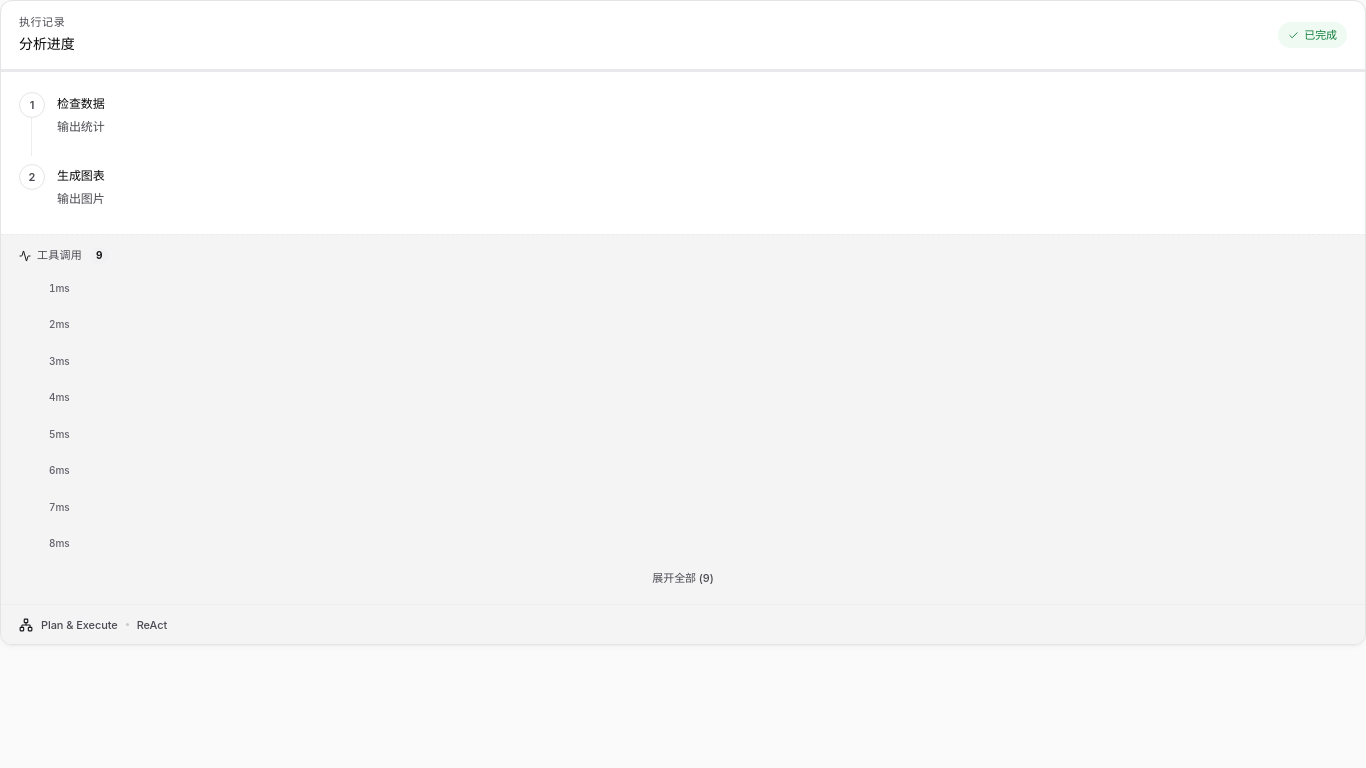
Test case: PlanPanel › 工具调用超过 8 条时支持展开全部
Click the button "展开全部 (9)" at (683, 578), box [19,566,1347,590]
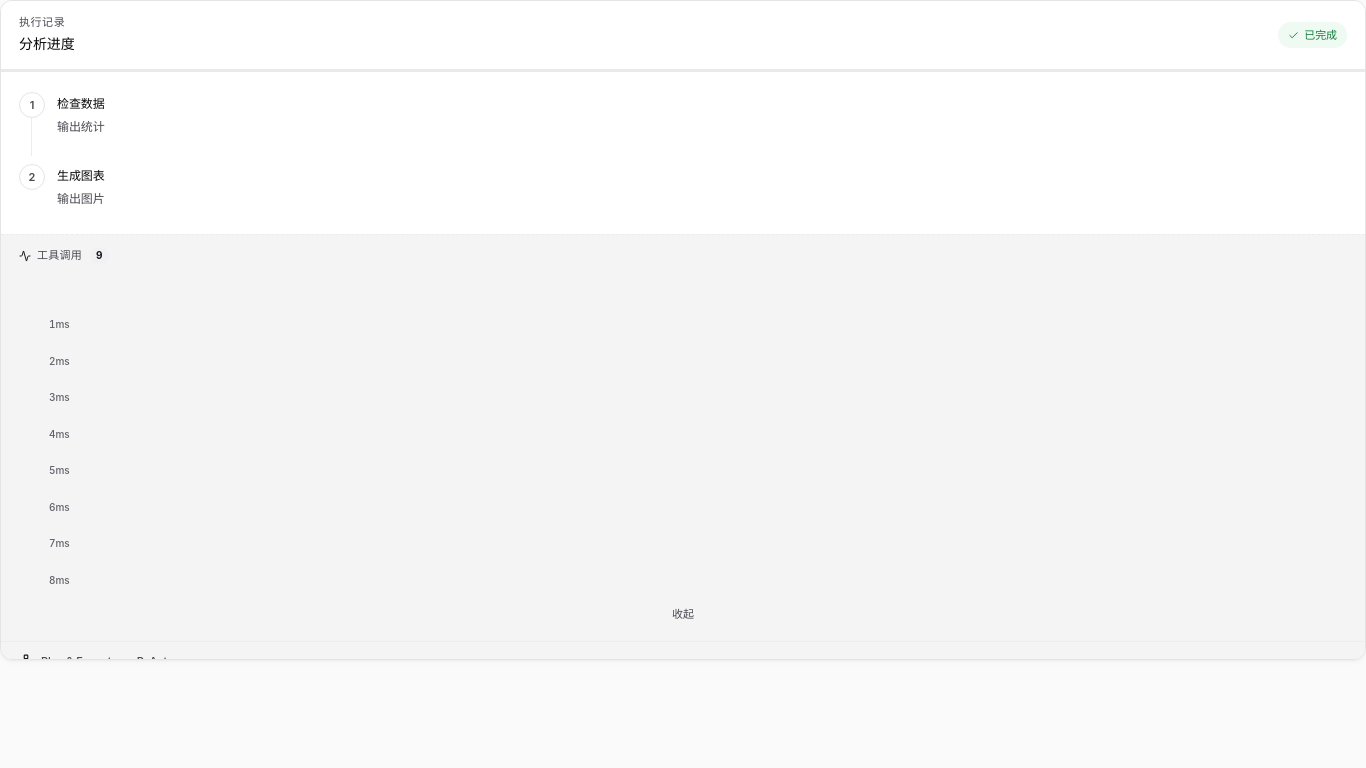
Now the number of list items with class "tool-trace-item" is 9
Click the button "收起" at (683, 615), box [19,602,1347,627]
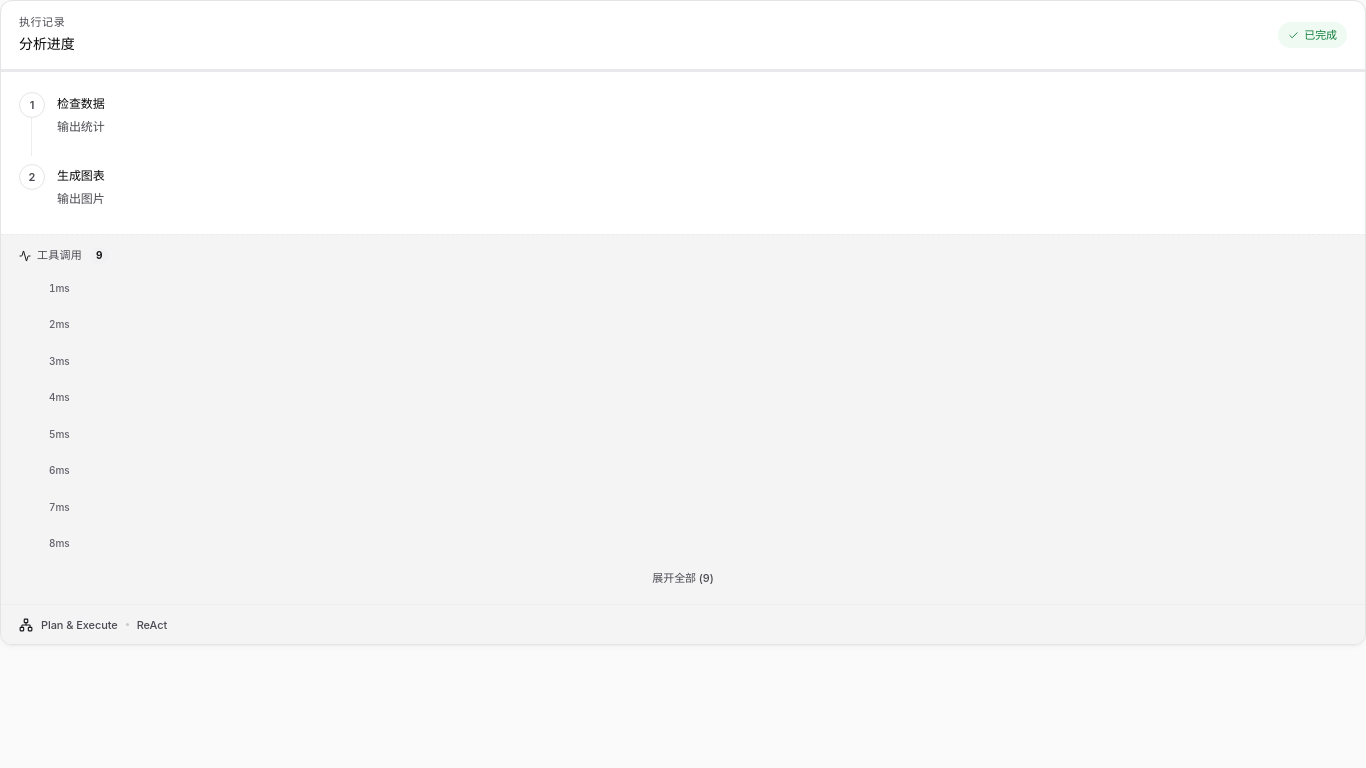
Now the number of list items with class "tool-trace-item" is 8
